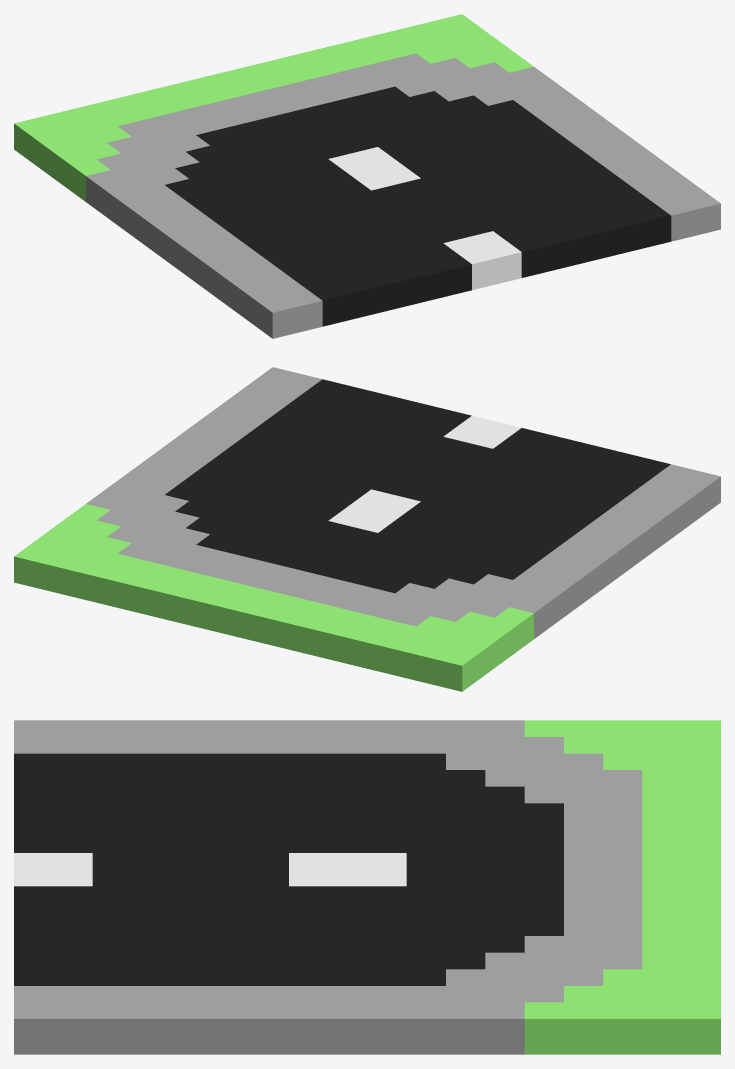
File: road_1.obj
The picture shows the model from 3 angles, top to bottom: view 1: azimuth 30°, elevation 25°; view 2: azimuth 150°, elevation 25°; view 3: azimuth 270°, elevation 25°; orthographic projection. The views are drawn at different scales.
Size of the model in its own units: 1.8 by 0.1 by 1.8.
Materials: 1 (1 with a texture image).
